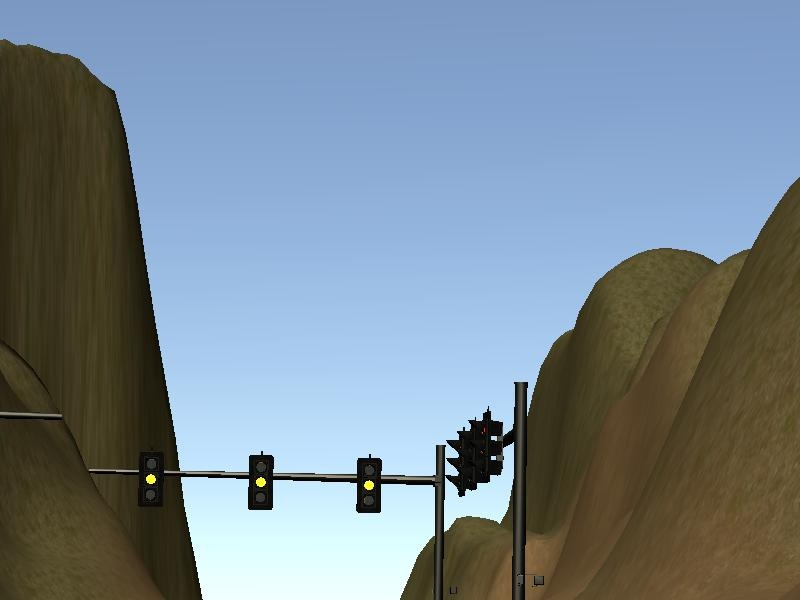yellow: (352, 448, 387, 517), (245, 446, 280, 514), (133, 444, 168, 511)
